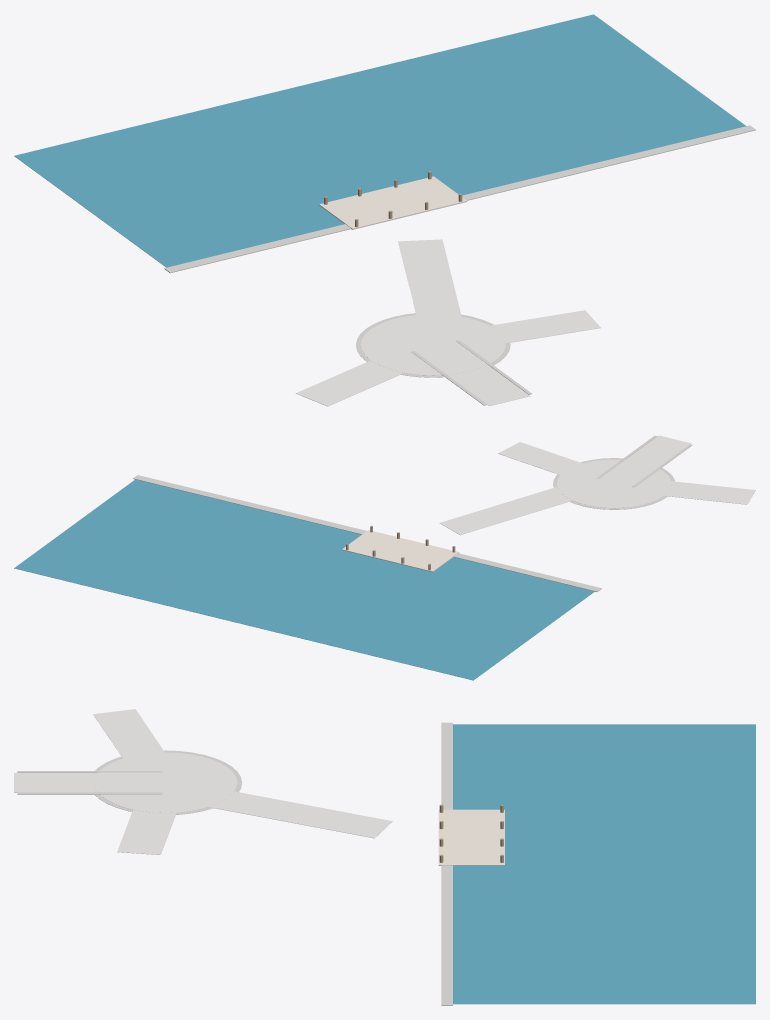
The model's file is Village_Environment.fbx.
3 renders of one model, top to bottom at view 1: azimuth 30°, elevation 25°; view 2: azimuth 150°, elevation 25°; view 3: azimuth 270°, elevation 25°, orthographic. The views are drawn at different scales.
Visible parts, largest first — view 1: Village_Environment; view 2: Village_Environment; view 3: Village_Environment.
Part boxes in pixels (bbox=[...]): Village_Environment: bbox=[14, 14, 755, 406]; Village_Environment: bbox=[14, 435, 755, 680]; Village_Environment: bbox=[14, 709, 755, 1005].
Bounding box in the file's own units: 5090 × 64 × 5380.
